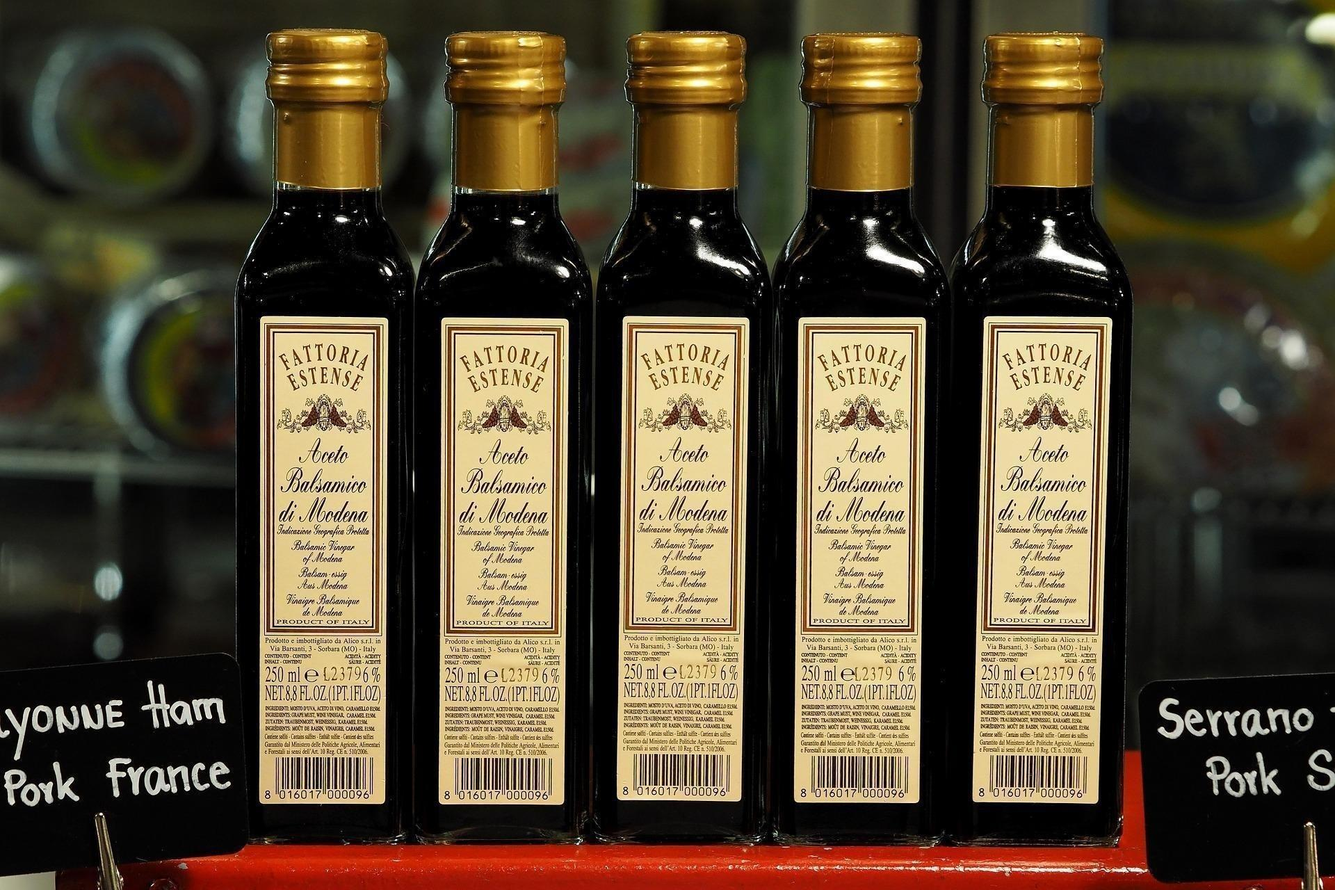bottle-glass: (230, 17, 414, 855), (412, 19, 596, 856), (766, 15, 950, 852), (592, 15, 775, 852), (946, 15, 1129, 852)
